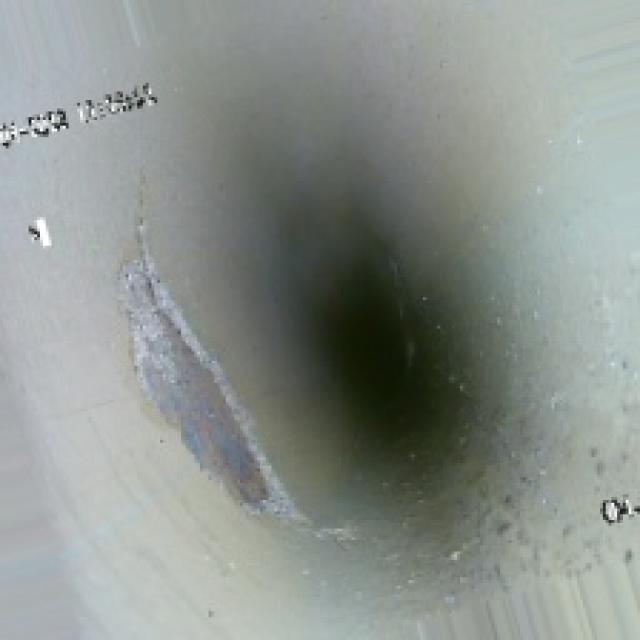pipe_surface_damage: (111, 223, 303, 528)
